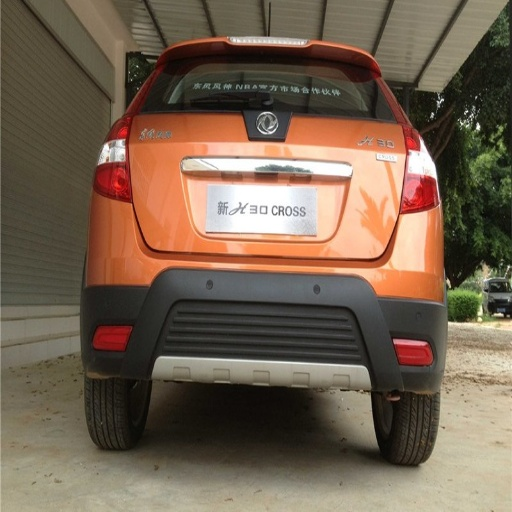back_bumper: (80, 195, 441, 383)
tailgate: (131, 68, 400, 254)
trunk: (153, 113, 239, 168)
